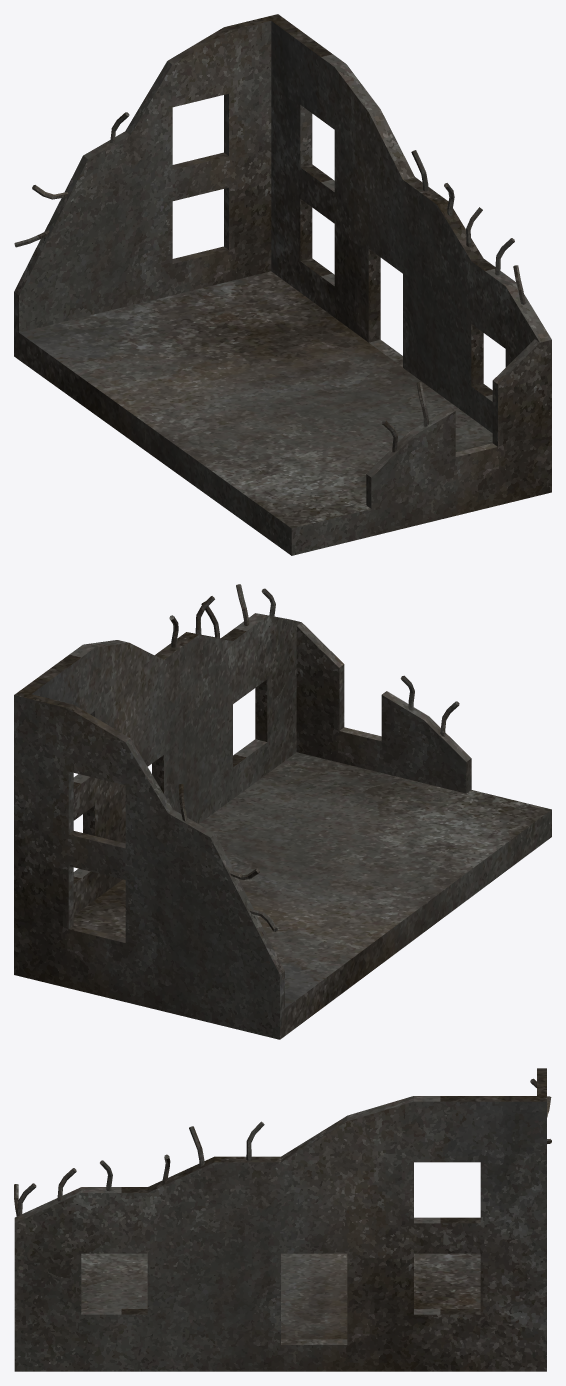
Rendered from Building Destroyed.fbx.
The picture shows the model from 3 angles, top to bottom: view 1: azimuth 30°, elevation 25°; view 2: azimuth 150°, elevation 25°; view 3: azimuth 270°, elevation 25°; orthographic projection. The views are drawn at different scales.
Visible parts, largest first — view 1: Plane, Cylinder; view 2: Plane, Cylinder; view 3: Plane, Cylinder.
Part boxes in pixels (x1,y1,x2,y2): Plane: (14,14,551,555); Cylinder: (14,112,525,452); Plane: (14,613,551,1039); Cylinder: (169,584,459,931); Plane: (14,1068,546,1371); Cylinder: (14,1078,551,1216).
Size of the model in its own units: 454 by 441 by 797.
Materials: 2 (2 with a texture image).
